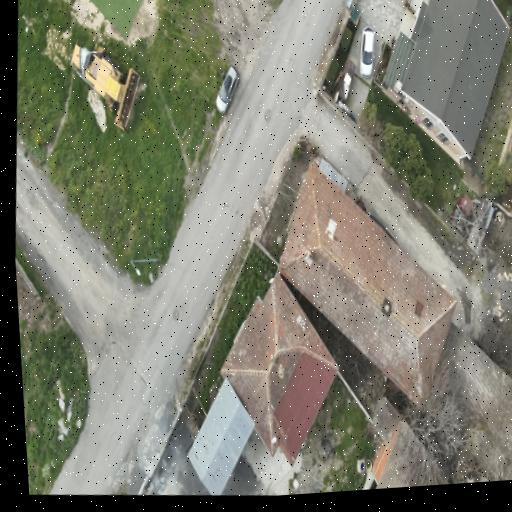car: (216, 66, 238, 113), (360, 27, 374, 76)
harvester: (73, 45, 140, 129)
